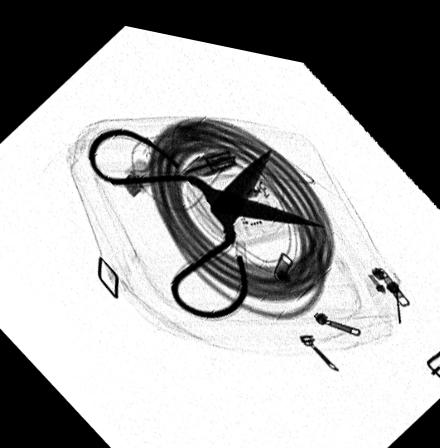Scissors: (83, 118, 329, 313)
